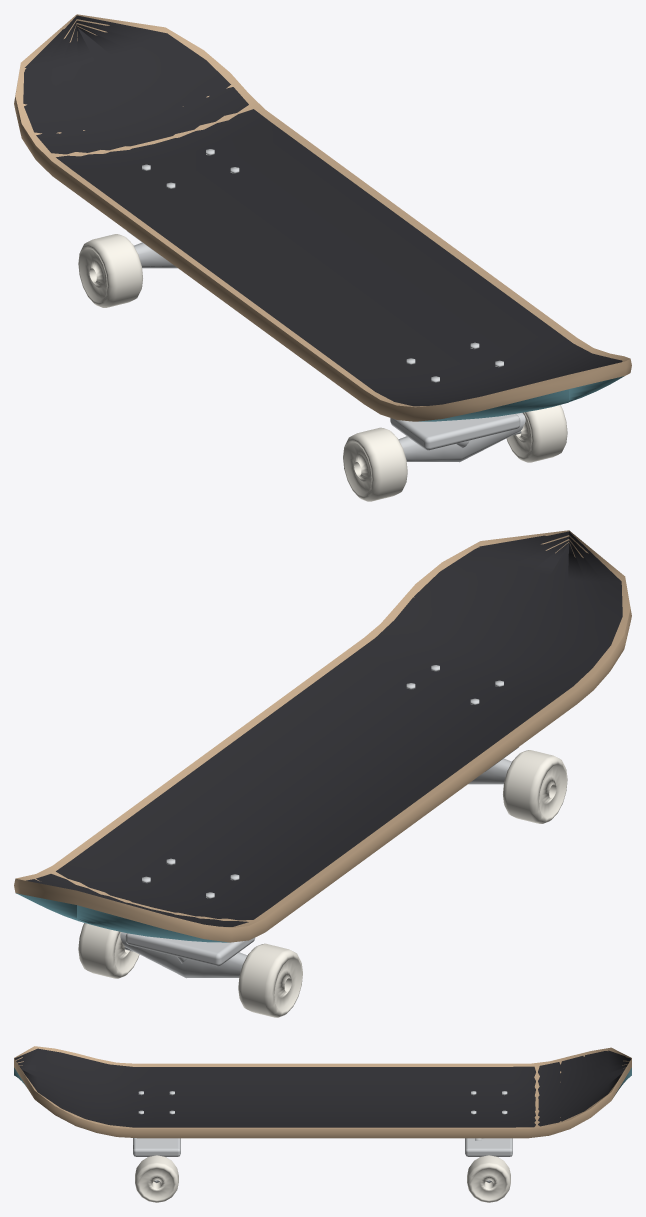
Rendered from hero-board.lod1.glb.
3 views of the same model, one above another, from view 1: azimuth 30°, elevation 25°; view 2: azimuth 150°, elevation 25°; view 3: azimuth 270°, elevation 25° (orthographic). The views are drawn at different scales.
Parts seen in each view (by area): view 1: GripTape, Deck, Truck_F, Wheel_RL, Wheel_FL, Wheel_FR; view 2: GripTape, Deck, Wheel_FL, Wheel_RL, Truck_R, Wheel_RR; view 3: GripTape, Deck, Wheel_FR, Wheel_RR, Truck_F, Truck_R.
Boxes of the visible parts, x1,y1,x2,y2 form: GripTape: (23,15,622,406); Deck: (14,14,631,421); Truck_F: (390,413,525,462); Wheel_RL: (78,234,142,307); Wheel_FL: (343,427,407,501); Wheel_FR: (506,405,567,462); GripTape: (26,531,622,926); Deck: (14,530,631,942); Wheel_FL: (503,750,567,823); Wheel_RL: (238,943,302,1017); Truck_R: (120,932,255,978); Wheel_RR: (78,923,139,978); GripTape: (14,1048,631,1127); Deck: (14,1046,631,1138); Wheel_FR: (135,1155,178,1202); Wheel_RR: (467,1155,510,1202); Truck_F: (133,1138,180,1182); Truck_R: (465,1138,512,1182).
Bounding box in the file's own units: 0.203 × 0.1665 × 0.8.
